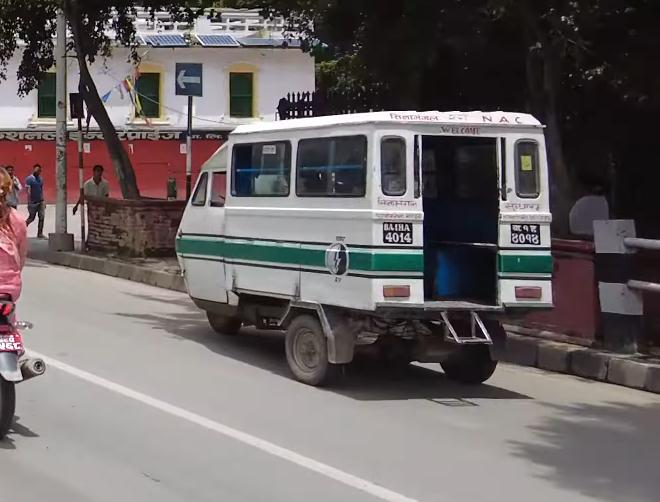tempo: (171, 99, 559, 389)
